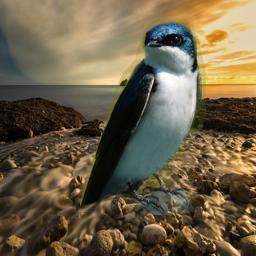Swallow: (80, 19, 206, 215)
